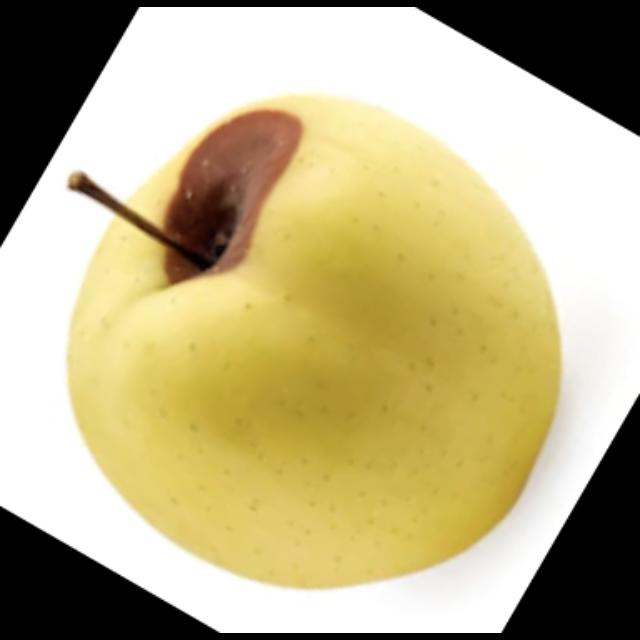Apel Tidak Segar: (56, 83, 570, 597)
